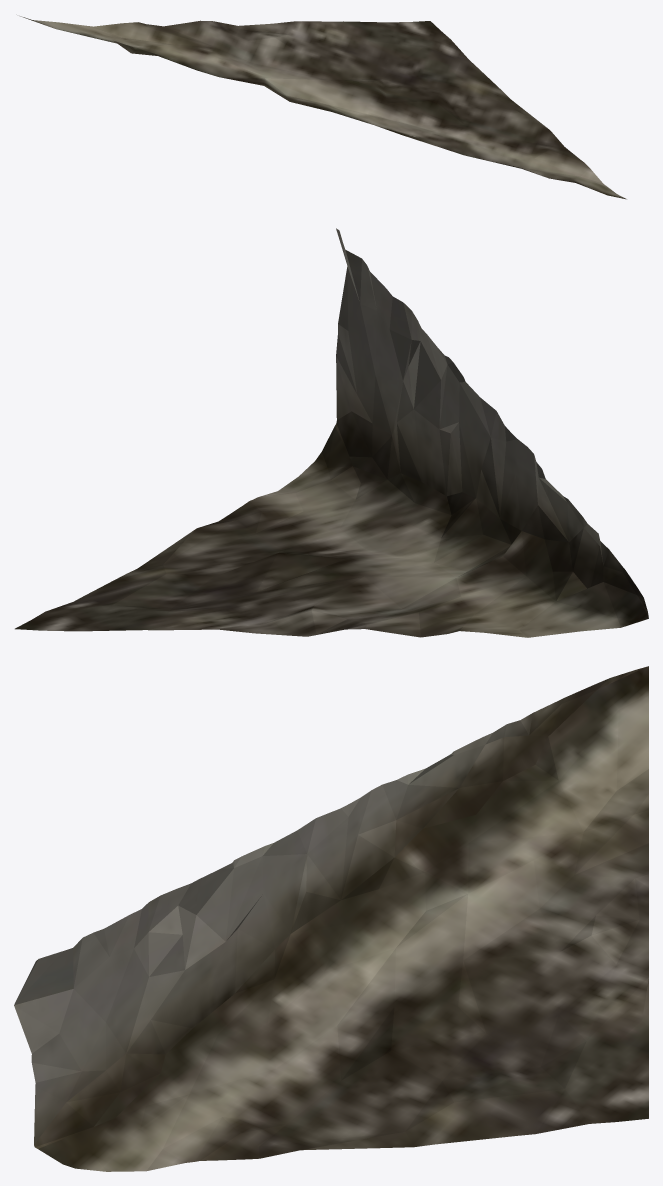
The picture shows the model from 3 angles, top to bottom: view 1: azimuth 30°, elevation 25°; view 2: azimuth 150°, elevation 25°; view 3: azimuth 270°, elevation 25°; orthographic projection. The views are drawn at different scales.
Size of the model in its own units: 0.3661 by 0.1218 by 0.3329.
Materials: 1 (1 with a texture image).
